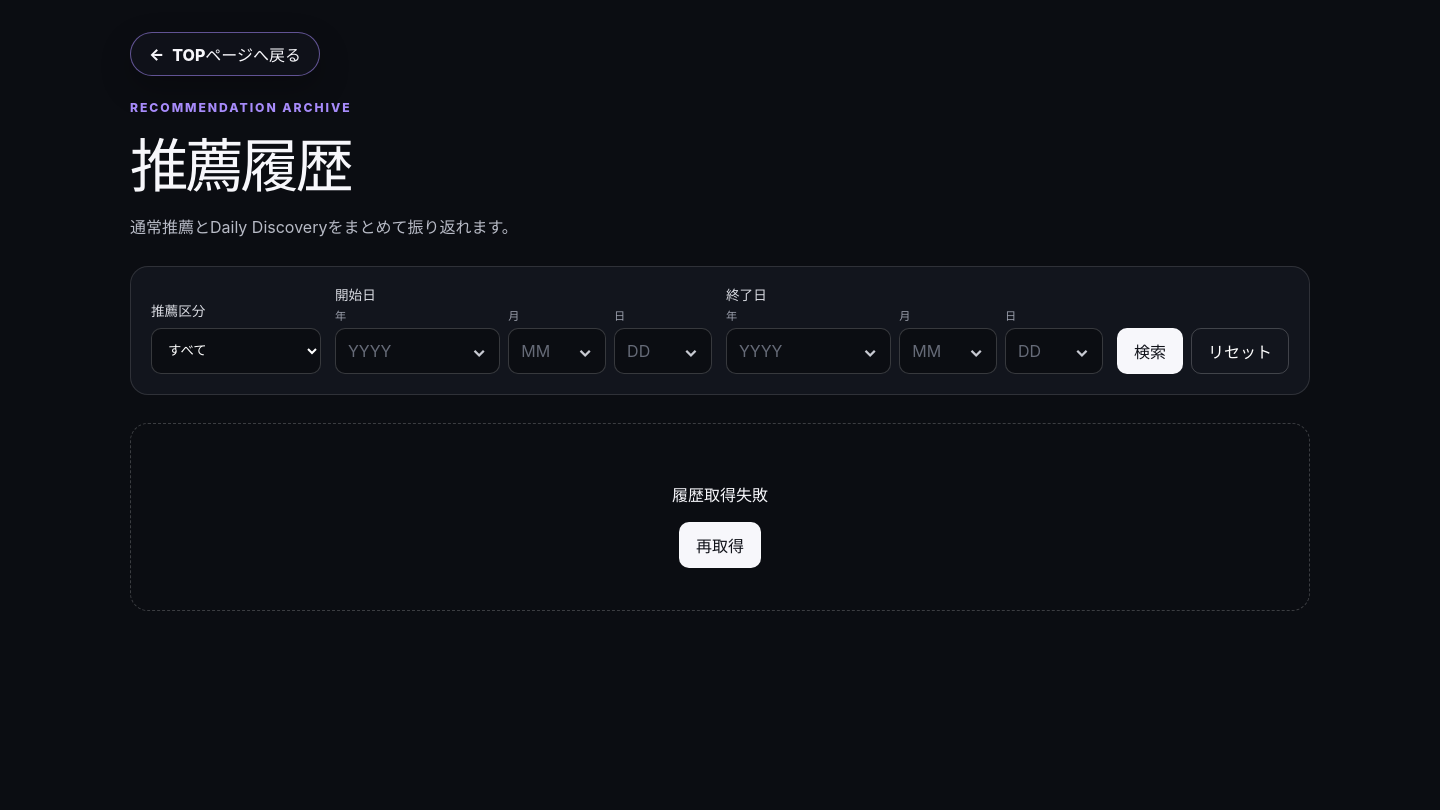
RecommendationHistoryPage › API Error後に再取得できる
Expected: the text "履歴取得失敗" is shown, [672,484,768,504]
Click the button "再取得". click: click(720, 544)
box: [679,522,761,568]
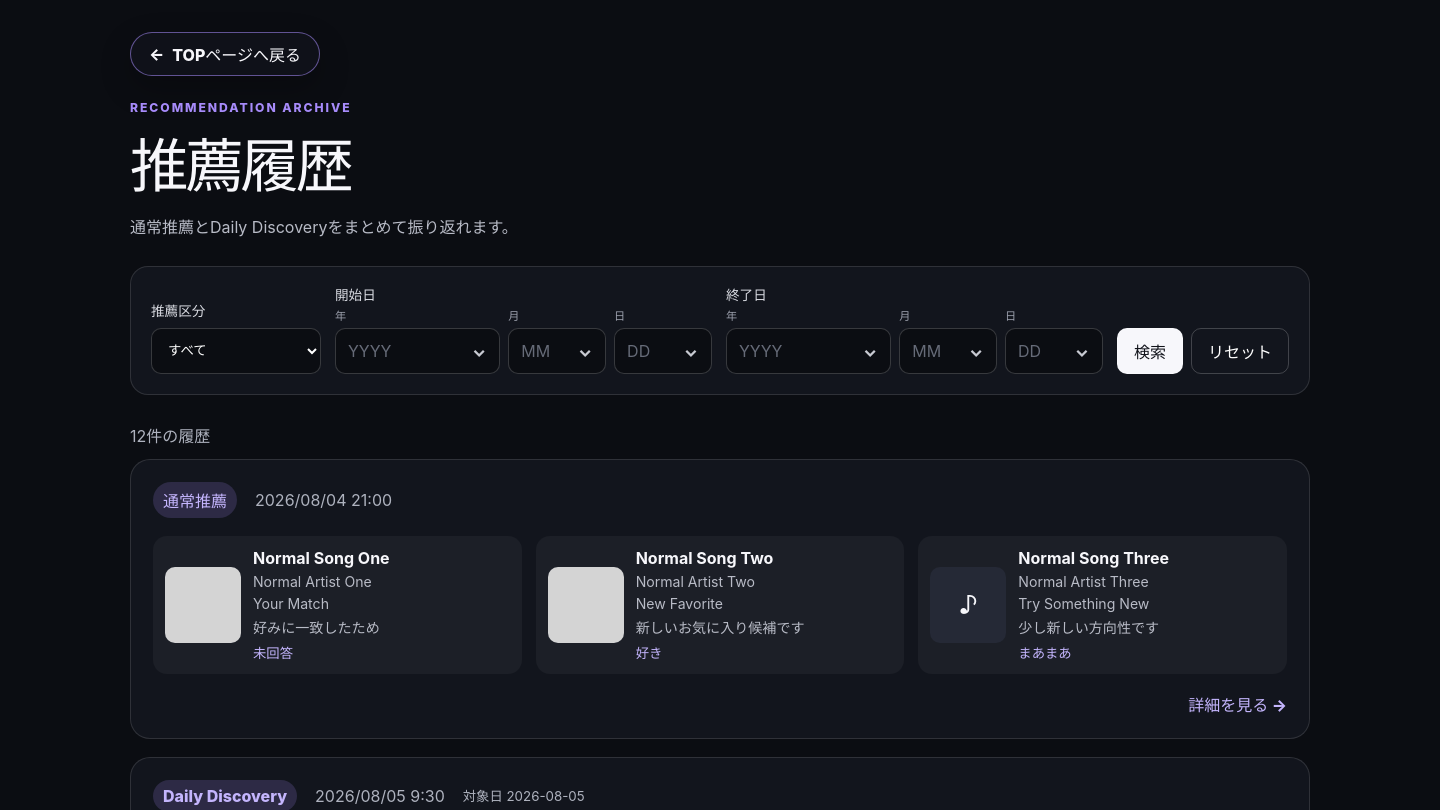
Result: the heading "Normal Song One" is shown at [253,548,390,568]
